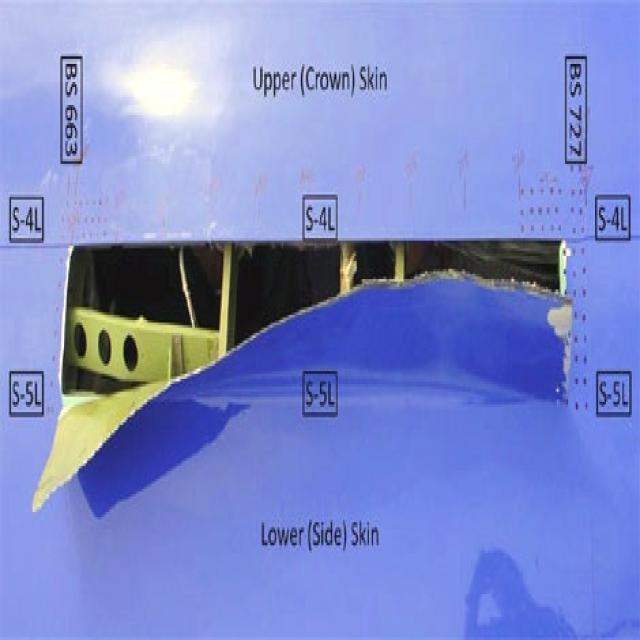crack: (32, 234, 576, 518)
